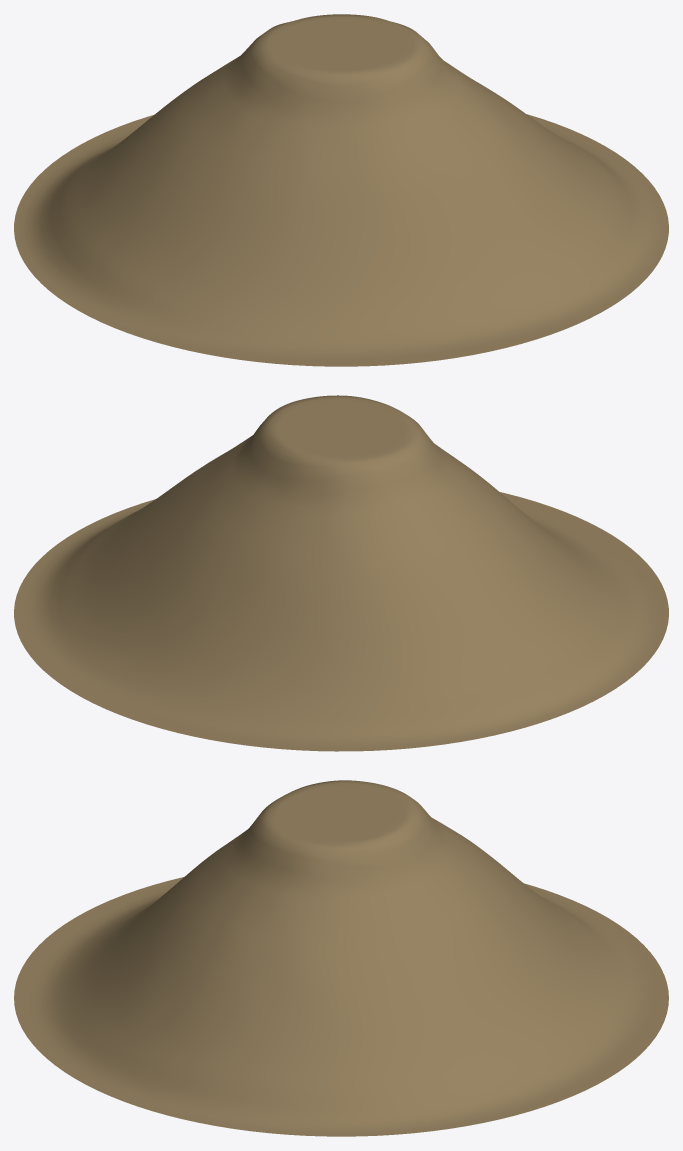
Rendered from hill-v4.2.glb.
3 views of the same model, one above another, from view 1: azimuth 30°, elevation 25°; view 2: azimuth 150°, elevation 25°; view 3: azimuth 270°, elevation 25° (orthographic).
Visible parts, largest first — view 1: hill_v4_2; view 2: hill_v4_2; view 3: hill_v4_2.
Boxes of the visible parts, <box> form: hill_v4_2: <box>14,14,668,366</box>; hill_v4_2: <box>14,395,668,751</box>; hill_v4_2: <box>14,780,668,1136</box>.
Bounding box in the file's own units: 2 × 0.62 × 2.
